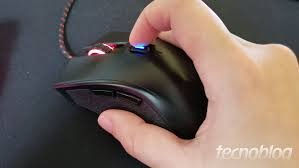mouse: (49, 32, 227, 149)
